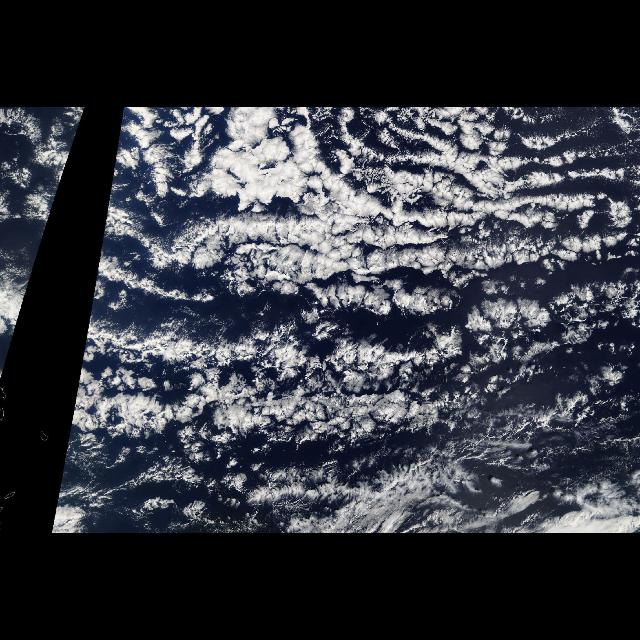Flower: (211, 116, 523, 354)
